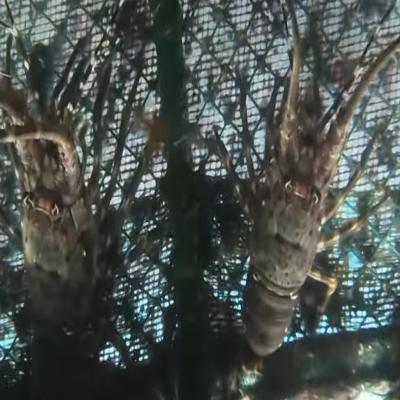lobster: (238, 92, 344, 353), (16, 112, 101, 342)
